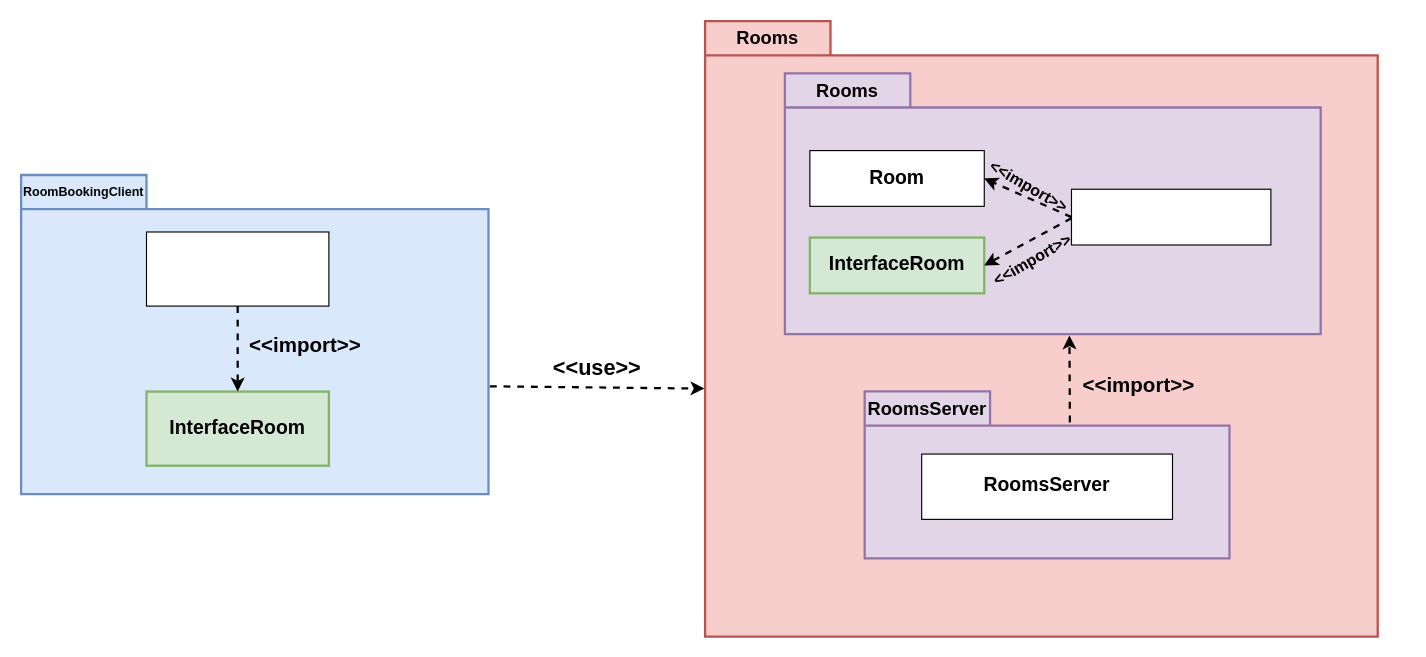
The diagram is 1426 pixels wide and 657 high, and some of its shapes have lost their labels. The centre of each missing label's shape, as x and y in pixels:
"Rooms (Implementation)" belongs at point 1170,216.
"RoomsClient" belongs at point 237,268.
